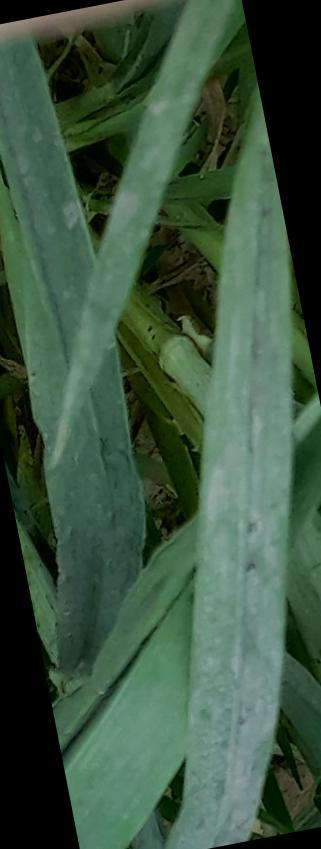Wheat: (213, 165, 292, 767), (28, 323, 135, 644), (0, 80, 107, 320)
